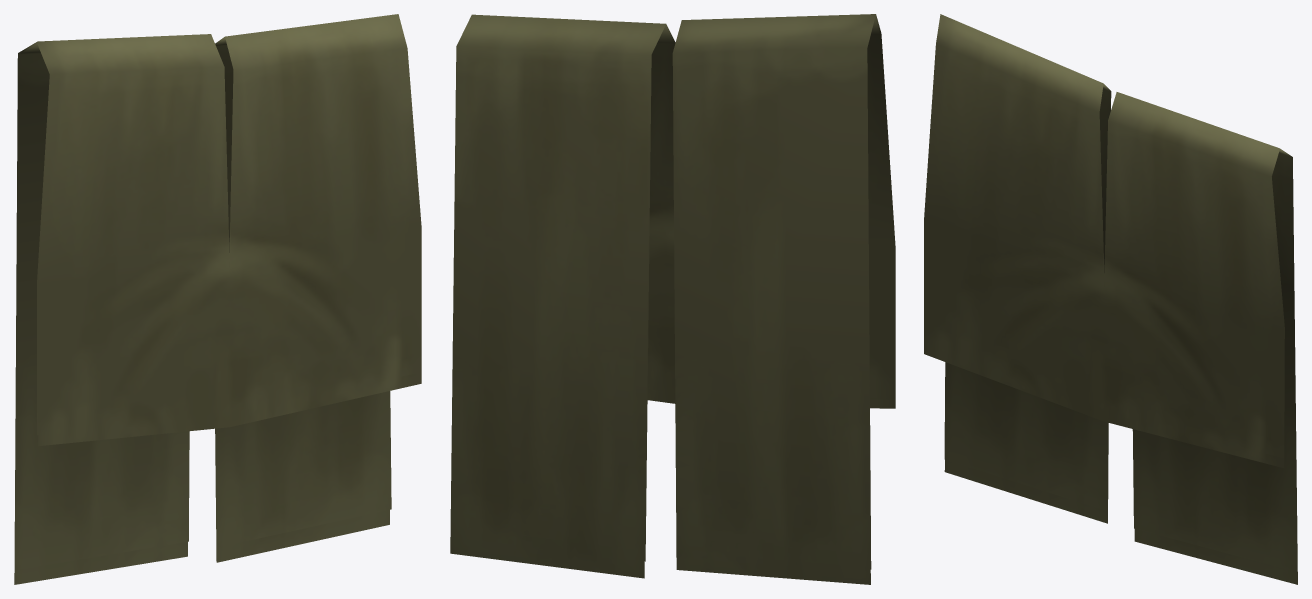
The model's file is cloth_01.fbx.
3 views of the same model, side by side, from view 1: azimuth 30°, elevation 25°; view 2: azimuth 150°, elevation 25°; view 3: azimuth 330°, elevation 25° (orthographic). The views are drawn at different scales.
Visible parts, largest first — view 1: cloth_01; view 2: cloth_01; view 3: cloth_01.
Part boxes in pixels (box(x1,y1,x2,y2)): cloth_01: box(14, 14, 421, 584); cloth_01: box(450, 14, 895, 584); cloth_01: box(924, 14, 1297, 584).
Size of the model in its own units: 45.65 by 65.12 by 8.65.
